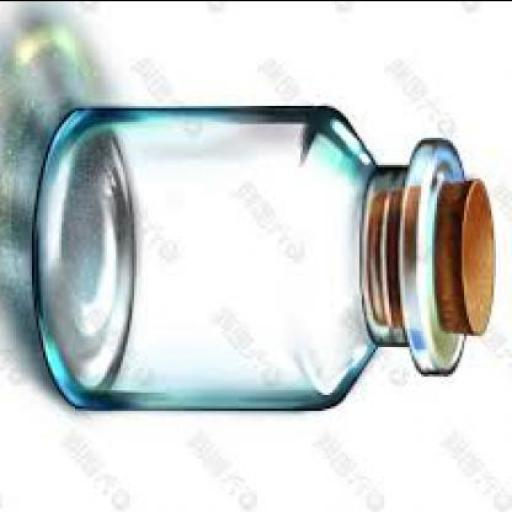glass: (34, 104, 469, 414)
